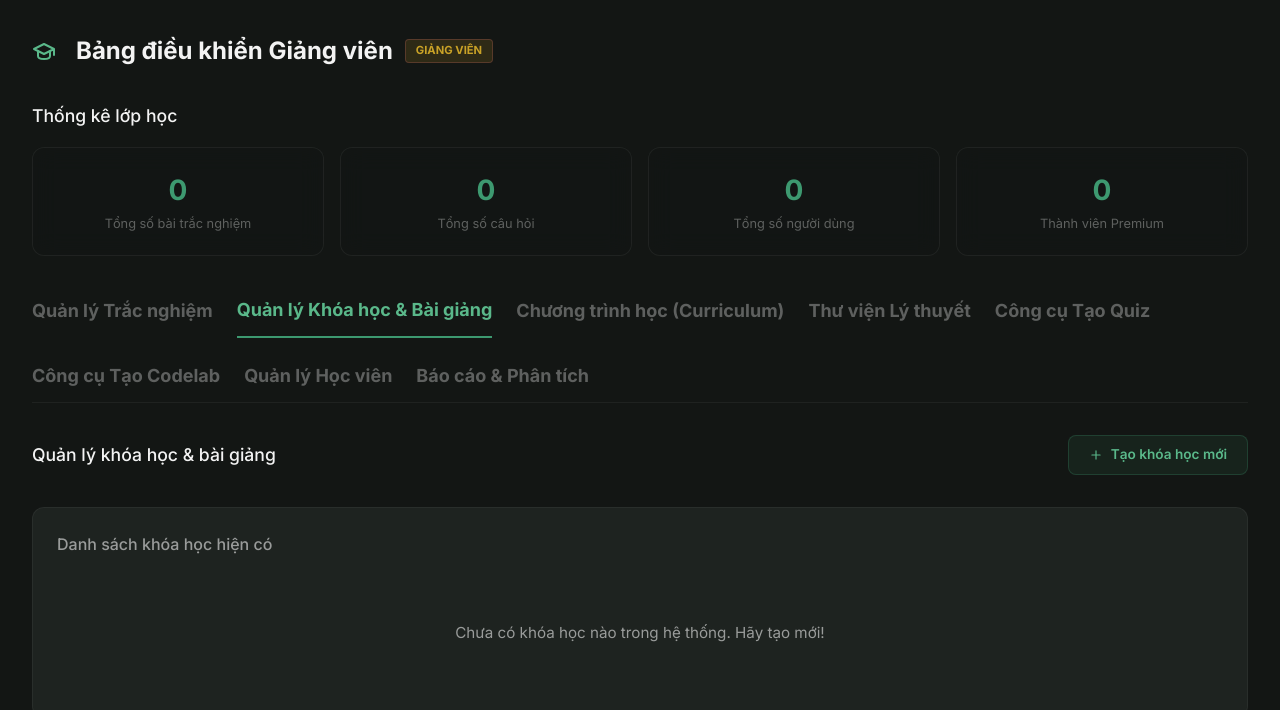
Teacher Panel — P2 Tests › US-TEACH-009 (P2): Curriculum tab › switches to curriculum tab when clicked
Click the tab "Chương trình học (Curriculum)": (650, 317) [516, 296, 784, 338]
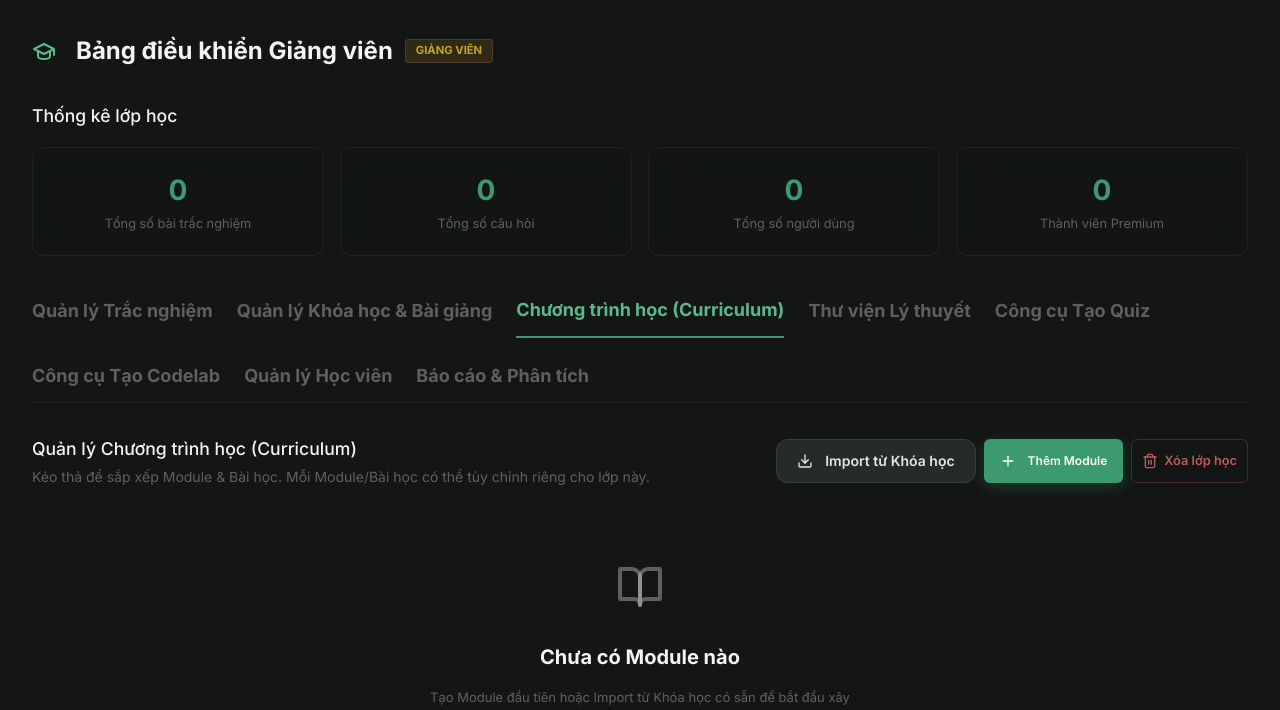
Now the text "Quản lý Chương trình học (Curriculum)" is shown, box [32, 438, 357, 459]
